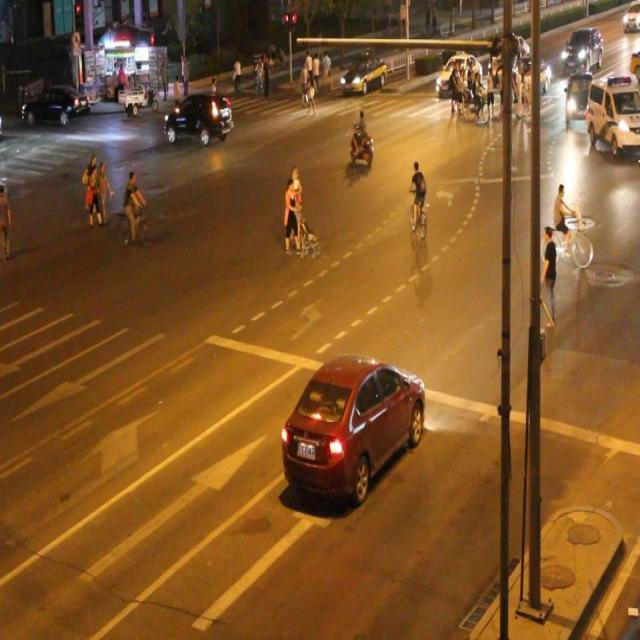car: (280, 356, 426, 512), (590, 76, 640, 162), (166, 100, 232, 154), (22, 87, 90, 133), (343, 49, 391, 94), (560, 20, 601, 71), (438, 49, 473, 97), (567, 73, 591, 125), (621, 8, 640, 36)
